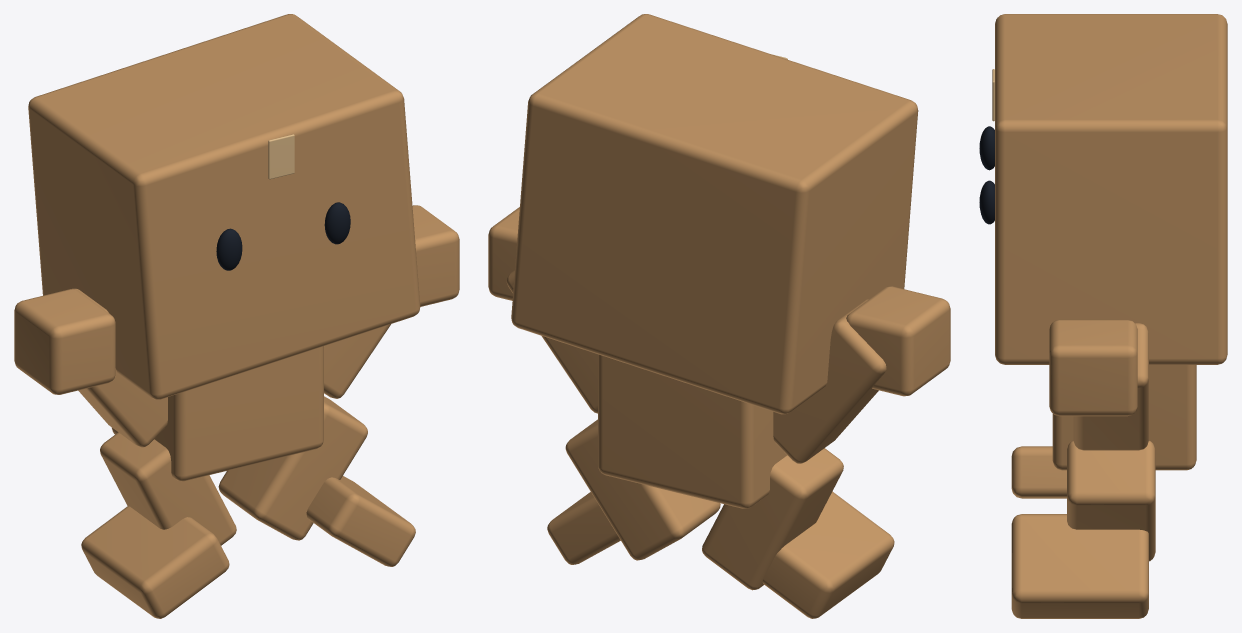
File: robot.glb
3 views of the same model, side by side, from view 1: azimuth 30°, elevation 25°; view 2: azimuth 150°, elevation 25°; view 3: azimuth 270°, elevation 25° (orthographic). The views are drawn at different scales.
Visible parts, largest first — view 1: PG box head, PG box body, PG shoe, PG hand, PG leg.001, PG leg, PG shoe.001, PG arm, PG hand.001, PG arm.001, PG head tape, PG little black eye.003 (+1 smaller); view 2: PG box head, PG box body, PG leg, PG shoe, PG hand, PG leg.001, PG arm, PG shoe.001, PG hand.001, PG arm.001; view 3: PG box head, PG shoe.001, PG hand.001, PG leg.001, PG box body, PG arm.001, PG shoe, PG little black eye.003, PG little black eye.002.
Boxes of the visible parts, left/top/right/bottom form: PG box head: left=28, top=14, right=420, bottom=399; PG box body: left=111, top=346, right=323, bottom=481; PG shoe: left=81, top=506, right=229, bottom=618; PG hand: left=14, top=289, right=115, bottom=394; PG leg.001: left=218, top=396, right=367, bottom=540; PG leg: left=100, top=432, right=236, bottom=545; PG shoe.001: left=306, top=476, right=415, bottom=566; PG arm: left=72, top=288, right=167, bottom=447; PG hand.001: left=412, top=205, right=459, bottom=306; PG arm.001: left=324, top=324, right=390, bottom=398; PG head tape: left=268, top=134, right=294, bottom=179; PG little black eye.003: left=324, top=202, right=350, bottom=244; PG box head: left=511, top=14, right=918, bottom=414; PG box body: left=598, top=354, right=787, bottom=508; PG leg: left=702, top=448, right=843, bottom=590; PG shoe: left=762, top=491, right=894, bottom=618; PG hand: left=846, top=286, right=950, bottom=396; PG leg.001: left=565, top=419, right=720, bottom=560; PG arm: left=773, top=299, right=886, bottom=463; PG shoe.001: left=547, top=492, right=620, bottom=564; PG hand.001: left=488, top=207, right=519, bottom=300; PG arm.001: left=506, top=270, right=597, bottom=413; PG box head: left=995, top=14, right=1227, bottom=364; PG shoe.001: left=1011, top=514, right=1148, bottom=618; PG hand.001: left=1049, top=319, right=1137, bottom=416; PG leg.001: left=1067, top=440, right=1155, bottom=561; PG box body: left=1052, top=365, right=1196, bottom=470; PG arm.001: left=1073, top=323, right=1148, bottom=450; PG shoe: left=1011, top=446, right=1066, bottom=498; PG little black eye.003: left=979, top=180, right=994, bottom=224; PG little black eye.002: left=979, top=126, right=994, bottom=170.
Size of the model in its own units: 2.19 by 2.47 by 1.12.
